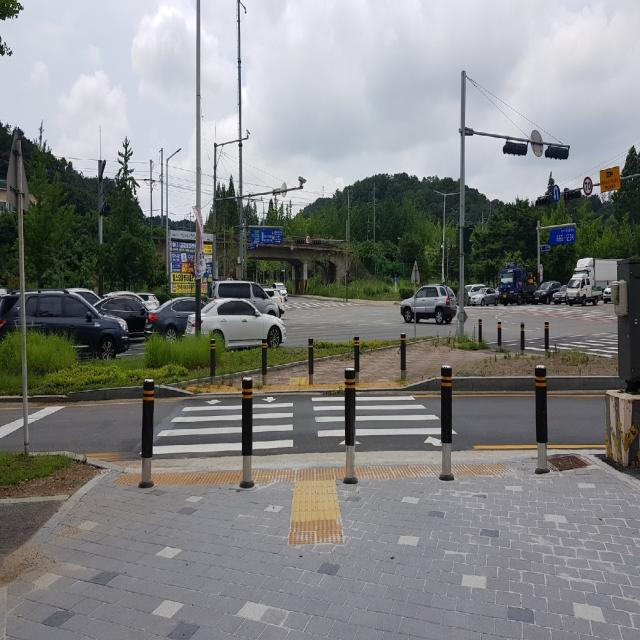횡단보도: (139, 396, 458, 456)
